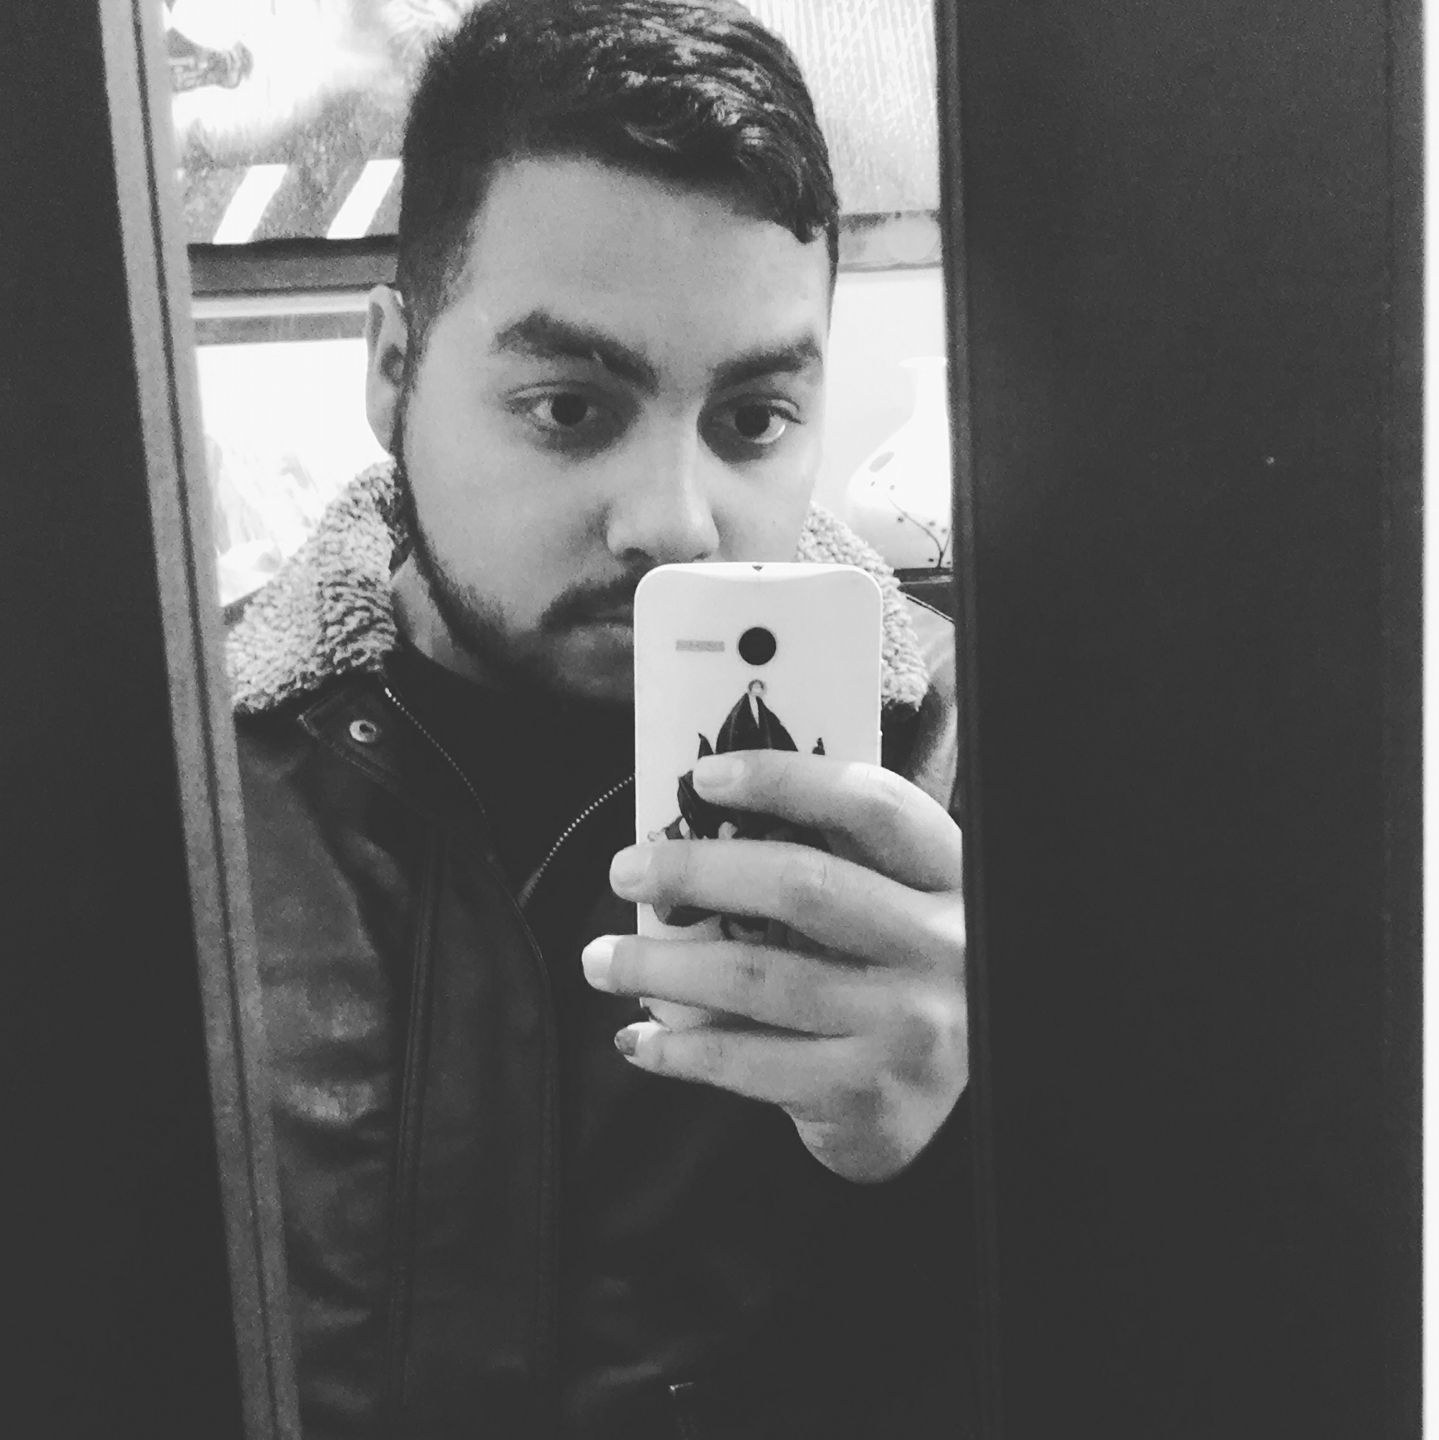Yoshi: (333, 8, 966, 754)
